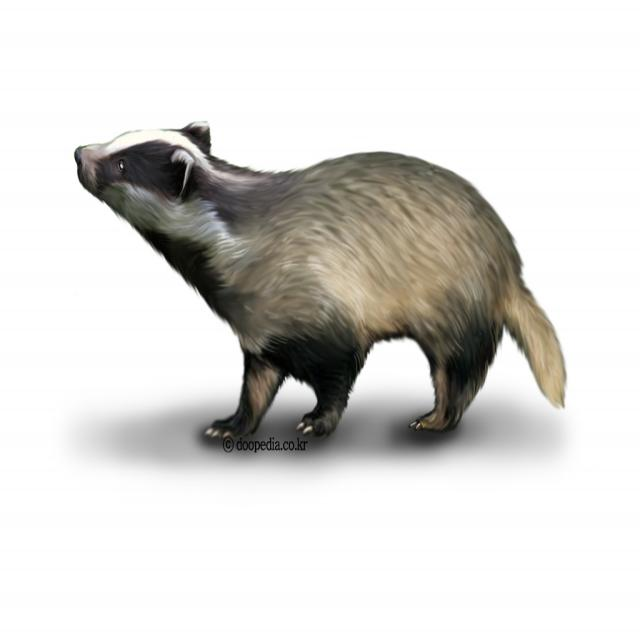badger: (60, 116, 578, 436)
